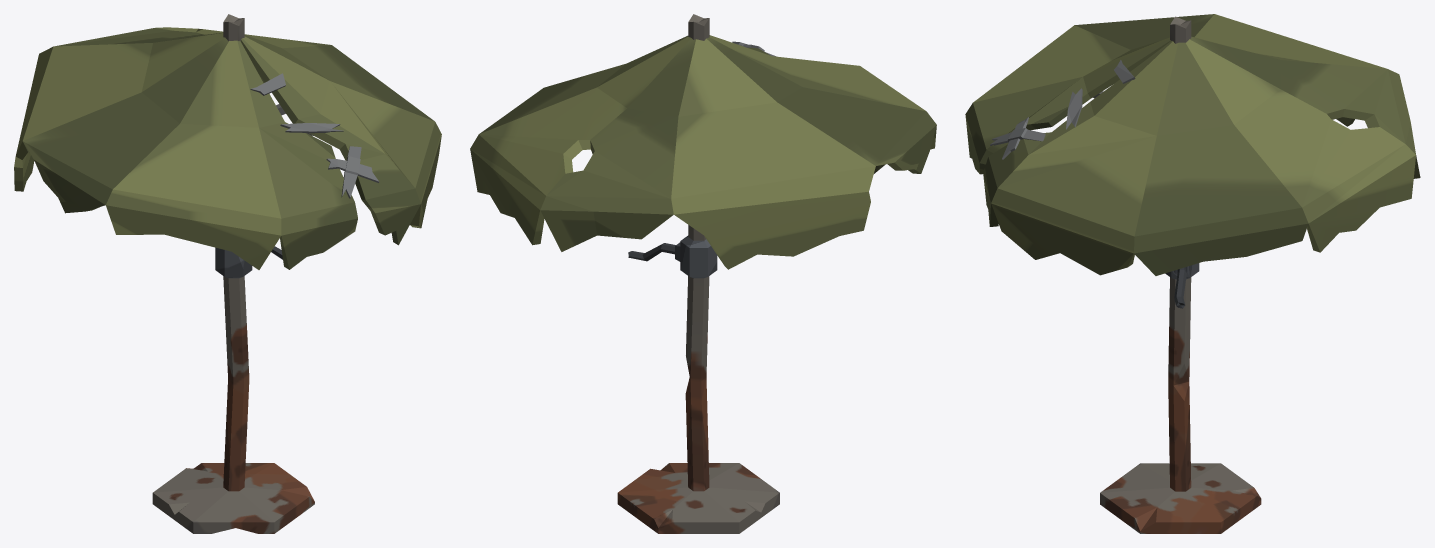
The model's file is SM_Prop_Umbrella_02.obj.
The picture shows the model from 3 angles, left to right: view 1: azimuth 30°, elevation 25°; view 2: azimuth 150°, elevation 25°; view 3: azimuth 270°, elevation 25°; orthographic projection.
Parts seen in each view (by area): view 1: SM_Prop_Umbrella_02_0; view 2: SM_Prop_Umbrella_02_0; view 3: SM_Prop_Umbrella_02_0.
Boxes of the visible parts, x1,y1,x2,y2 form: SM_Prop_Umbrella_02_0: [14, 14, 441, 533]; SM_Prop_Umbrella_02_0: [470, 14, 936, 533]; SM_Prop_Umbrella_02_0: [965, 14, 1420, 533].
Size of the model in its own units: 2.13 by 2.59 by 2.21.
1 material, 1 textured.
